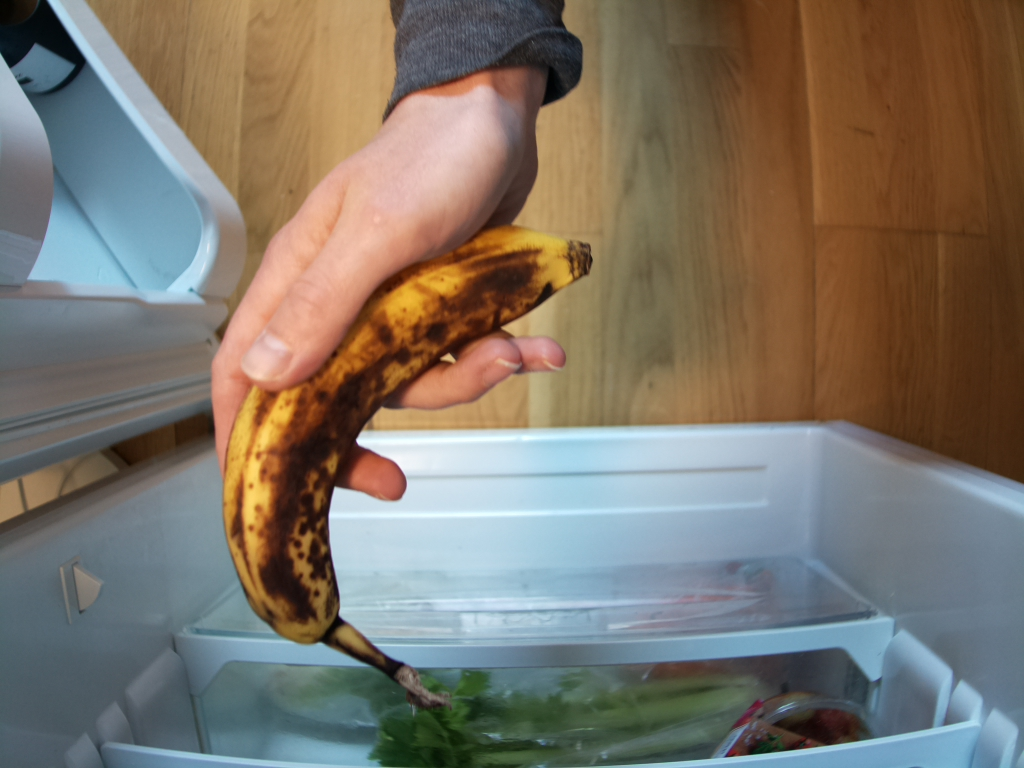banana-overripe: (222, 226, 594, 712)
